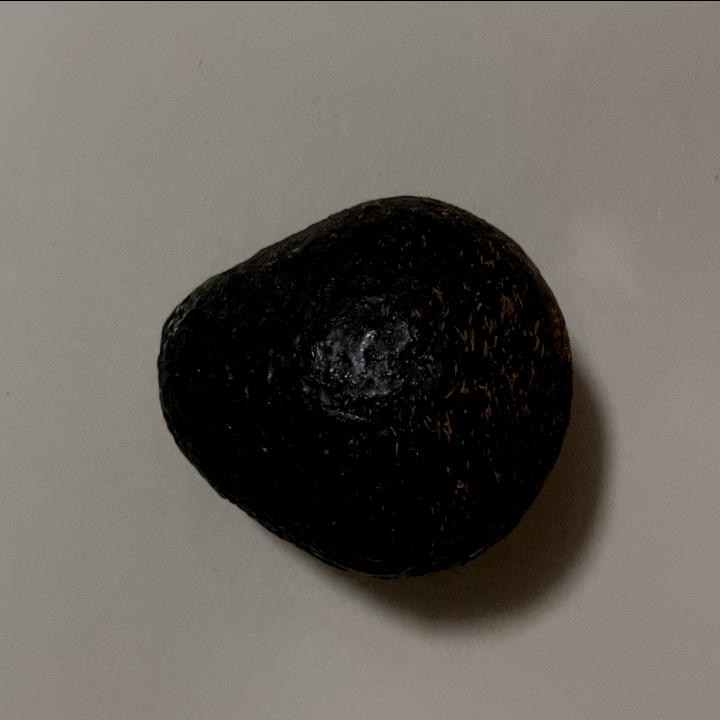Level3: (144, 180, 584, 586)
